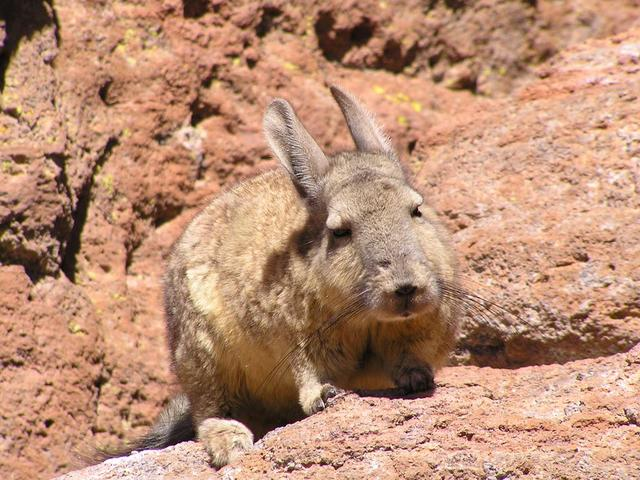rabbit: (123, 89, 479, 402)
